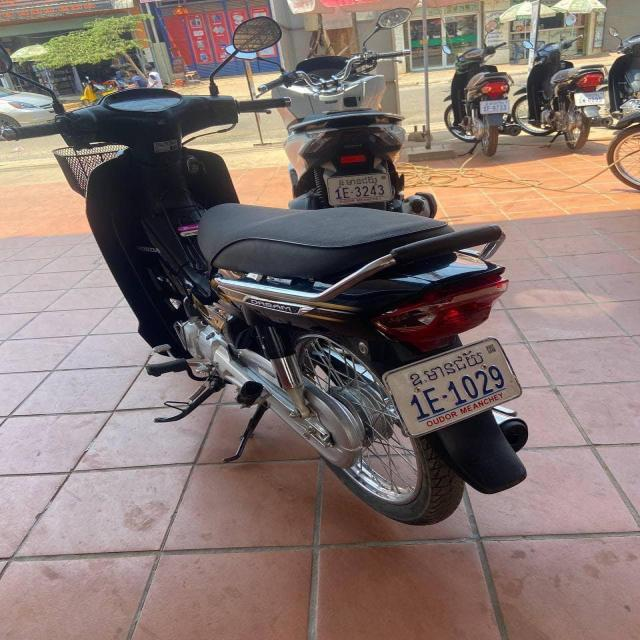Oudor_Meanchey: (410, 350, 484, 386), (339, 175, 378, 185)
